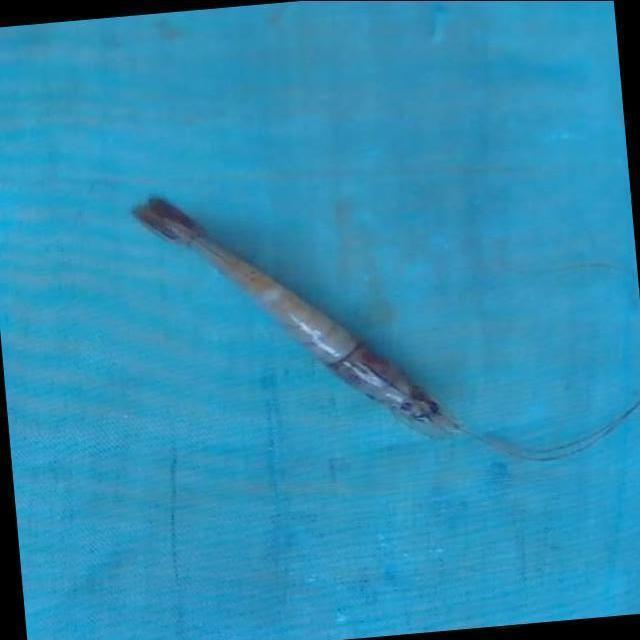shrimp: (134, 198, 636, 459)
